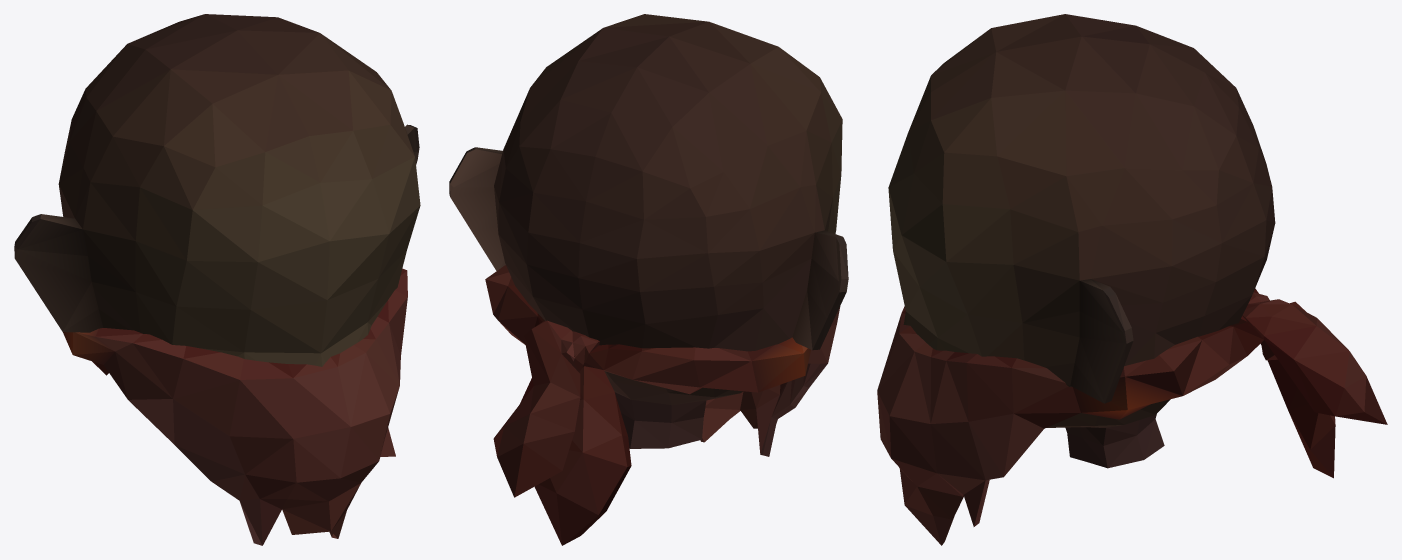
The model's file is helm_darkskin_bald_bandana.fbx.
The picture shows the model from 3 angles, left to right: view 1: azimuth 30°, elevation 25°; view 2: azimuth 150°, elevation 25°; view 3: azimuth 270°, elevation 25°; orthographic projection. The views are drawn at different scales.
Visible parts, largest first — view 1: helm_darkskin_bald_bandana; view 2: helm_darkskin_bald_bandana; view 3: helm_darkskin_bald_bandana.
Boxes of the visible parts, box(x1,y1,x2,y2) form: helm_darkskin_bald_bandana: box(14, 14, 420, 545); helm_darkskin_bald_bandana: box(449, 14, 848, 545); helm_darkskin_bald_bandana: box(877, 14, 1387, 545).
Bounding box in the file's own units: 1.12 × 1.24 × 1.17.
